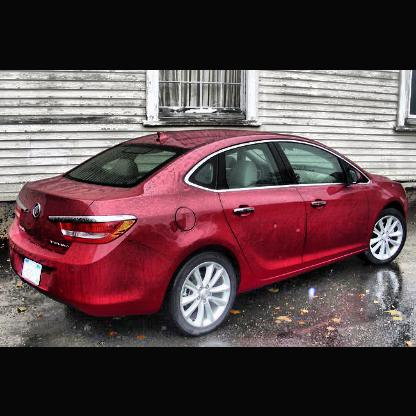Buick Verano Sedan 2012: (8, 127, 413, 335)
